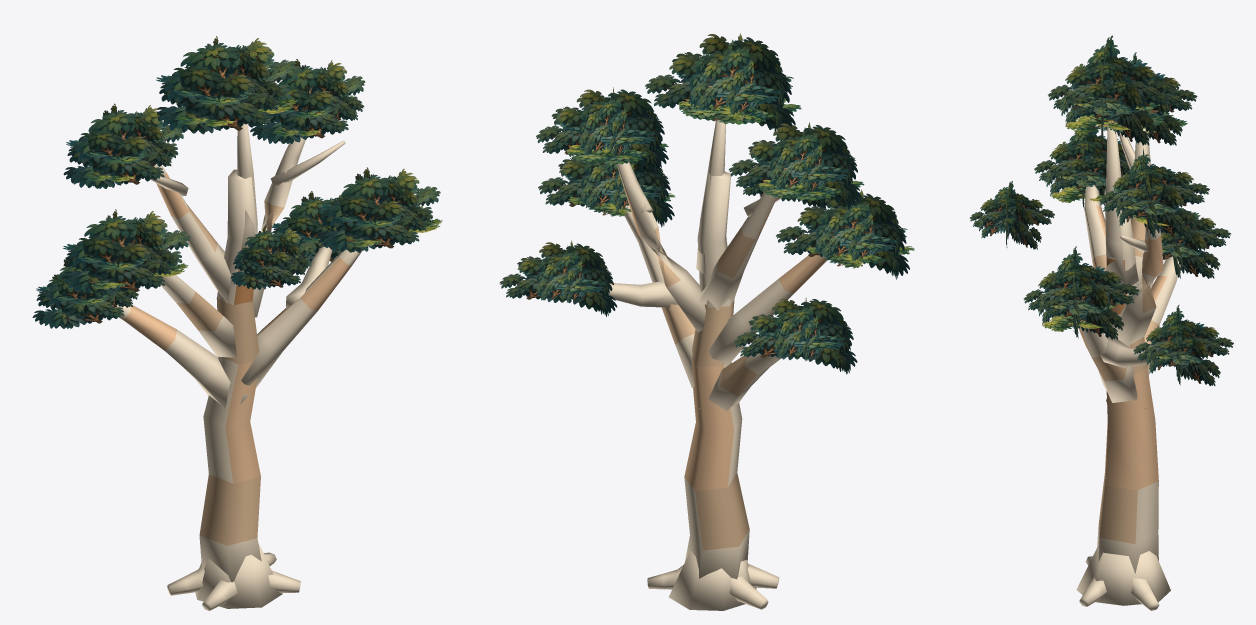
Rendered from TREE_EUCALYPTUS_001_v008_LOD_MAP.glb.
3 renders of one model, left to right at view 1: azimuth 30°, elevation 25°; view 2: azimuth 150°, elevation 25°; view 3: azimuth 270°, elevation 25°, orthographic. The views are drawn at different scales.
Visible parts, largest first — view 1: TREE_EUCALYPTUS_001_MAP_AUTHORED_FOLIAGE_ISLANDS, TREE_EUCALYPTUS_001_MAP_MAIN_TRUNK, TREE_EUCALYPTUS_001_MAP_MID_RIGHT_SWEEP, TREE_EUCALYPTUS_001_MAP_LOWER_LEFT_SWEEP, TREE_EUCALYPTUS_001_MAP_UPPER_LEFT_FORK, TREE_EUCALYPTUS_001_MAP_SCULPTED_ROOT_COLLAR, TREE_EUCALYPTUS_001_MAP_MID_LEFT_ARCH, TREE_EUCALYPTUS_001_MAP_UPPER_RIGHT_ARCH, TREE_EUCALYPTUS_001_MAP_CENTRAL_CROWN_FORK, TREE_EUCALYPTUS_001_MAP_LOWER_RIGHT_REACH, TREE_EUCALYPTUS_001_MAP_RIGHT_TOP_SUPPORT, TREE_EUCALYPTUS_001_MAP_ROOT_LONG_LEFT (+1 smaller); view 2: TREE_EUCALYPTUS_001_MAP_AUTHORED_FOLIAGE_ISLANDS, TREE_EUCALYPTUS_001_MAP_MAIN_TRUNK, TREE_EUCALYPTUS_001_MAP_UPPER_RIGHT_ARCH, TREE_EUCALYPTUS_001_MAP_MID_LEFT_ARCH, TREE_EUCALYPTUS_001_MAP_UPPER_LEFT_FORK, TREE_EUCALYPTUS_001_MAP_SCULPTED_ROOT_COLLAR, TREE_EUCALYPTUS_001_MAP_MID_RIGHT_SWEEP, TREE_EUCALYPTUS_001_MAP_LOWER_LEFT_SWEEP, TREE_EUCALYPTUS_001_MAP_LOWER_RIGHT_REACH, TREE_EUCALYPTUS_001_MAP_CENTRAL_CROWN_FORK, TREE_EUCALYPTUS_001_MAP_ROOT_LONG_LEFT; view 3: TREE_EUCALYPTUS_001_MAP_AUTHORED_FOLIAGE_ISLANDS, TREE_EUCALYPTUS_001_MAP_MAIN_TRUNK, TREE_EUCALYPTUS_001_MAP_SCULPTED_ROOT_COLLAR, TREE_EUCALYPTUS_001_MAP_UPPER_RIGHT_ARCH, TREE_EUCALYPTUS_001_MAP_CENTRAL_CROWN_FORK, TREE_EUCALYPTUS_001_MAP_MID_RIGHT_SWEEP, TREE_EUCALYPTUS_001_MAP_MID_LEFT_ARCH, TREE_EUCALYPTUS_001_MAP_LOWER_LEFT_SWEEP, TREE_EUCALYPTUS_001_MAP_LOWER_RIGHT_REACH, TREE_EUCALYPTUS_001_MAP_UPPER_LEFT_FORK, TREE_EUCALYPTUS_001_MAP_ROOT_RIGHT_SIDE, TREE_EUCALYPTUS_001_MAP_ROOT_FRONT_RIGHT.
Part boxes in pixels (bbox=[...]): TREE_EUCALYPTUS_001_MAP_AUTHORED_FOLIAGE_ISLANDS: bbox=[32, 36, 442, 328]; TREE_EUCALYPTUS_001_MAP_MAIN_TRUNK: bbox=[199, 169, 261, 582]; TREE_EUCALYPTUS_001_MAP_MID_RIGHT_SWEEP: bbox=[241, 249, 362, 387]; TREE_EUCALYPTUS_001_MAP_LOWER_LEFT_SWEEP: bbox=[112, 304, 247, 408]; TREE_EUCALYPTUS_001_MAP_UPPER_LEFT_FORK: bbox=[154, 164, 230, 303]; TREE_EUCALYPTUS_001_MAP_SCULPTED_ROOT_COLLAR: bbox=[195, 544, 282, 608]; TREE_EUCALYPTUS_001_MAP_MID_LEFT_ARCH: bbox=[160, 275, 236, 357]; TREE_EUCALYPTUS_001_MAP_UPPER_RIGHT_ARCH: bbox=[252, 137, 305, 317]; TREE_EUCALYPTUS_001_MAP_CENTRAL_CROWN_FORK: bbox=[237, 123, 257, 271]; TREE_EUCALYPTUS_001_MAP_LOWER_RIGHT_REACH: bbox=[286, 246, 332, 308]; TREE_EUCALYPTUS_001_MAP_RIGHT_TOP_SUPPORT: bbox=[270, 140, 345, 187]; TREE_EUCALYPTUS_001_MAP_ROOT_LONG_LEFT: bbox=[167, 566, 204, 595]; TREE_EUCALYPTUS_001_MAP_AUTHORED_FOLIAGE_ISLANDS: bbox=[499, 33, 914, 374]; TREE_EUCALYPTUS_001_MAP_MAIN_TRUNK: bbox=[684, 171, 749, 579]; TREE_EUCALYPTUS_001_MAP_UPPER_RIGHT_ARCH: bbox=[612, 146, 705, 332]; TREE_EUCALYPTUS_001_MAP_MID_LEFT_ARCH: bbox=[708, 255, 827, 364]; TREE_EUCALYPTUS_001_MAP_UPPER_LEFT_FORK: bbox=[699, 189, 776, 310]; TREE_EUCALYPTUS_001_MAP_SCULPTED_ROOT_COLLAR: bbox=[669, 550, 756, 610]; TREE_EUCALYPTUS_001_MAP_MID_RIGHT_SWEEP: bbox=[617, 200, 695, 387]; TREE_EUCALYPTUS_001_MAP_LOWER_LEFT_SWEEP: bbox=[699, 353, 781, 410]; TREE_EUCALYPTUS_001_MAP_LOWER_RIGHT_REACH: bbox=[608, 281, 678, 307]; TREE_EUCALYPTUS_001_MAP_CENTRAL_CROWN_FORK: bbox=[696, 120, 726, 274]; TREE_EUCALYPTUS_001_MAP_ROOT_LONG_LEFT: bbox=[729, 576, 768, 609]; TREE_EUCALYPTUS_001_MAP_AUTHORED_FOLIAGE_ISLANDS: bbox=[970, 35, 1233, 386]; TREE_EUCALYPTUS_001_MAP_MAIN_TRUNK: bbox=[1097, 189, 1158, 573]; TREE_EUCALYPTUS_001_MAP_SCULPTED_ROOT_COLLAR: bbox=[1076, 546, 1170, 605]; TREE_EUCALYPTUS_001_MAP_UPPER_RIGHT_ARCH: bbox=[1114, 226, 1163, 345]; TREE_EUCALYPTUS_001_MAP_CENTRAL_CROWN_FORK: bbox=[1105, 126, 1138, 285]; TREE_EUCALYPTUS_001_MAP_MID_RIGHT_SWEEP: bbox=[1079, 327, 1137, 402]; TREE_EUCALYPTUS_001_MAP_MID_LEFT_ARCH: bbox=[1084, 184, 1106, 333]; TREE_EUCALYPTUS_001_MAP_LOWER_LEFT_SWEEP: bbox=[1106, 256, 1181, 408]; TREE_EUCALYPTUS_001_MAP_LOWER_RIGHT_REACH: bbox=[1100, 335, 1160, 367]; TREE_EUCALYPTUS_001_MAP_UPPER_LEFT_FORK: bbox=[1130, 128, 1150, 287]; TREE_EUCALYPTUS_001_MAP_ROOT_RIGHT_SIDE: bbox=[1131, 578, 1159, 610]; TREE_EUCALYPTUS_001_MAP_ROOT_FRONT_RIGHT: bbox=[1079, 577, 1106, 606].
Size of the model in its own units: 10.07 by 13.98 by 6.57.
Materials: 5 (1 with a texture image).
